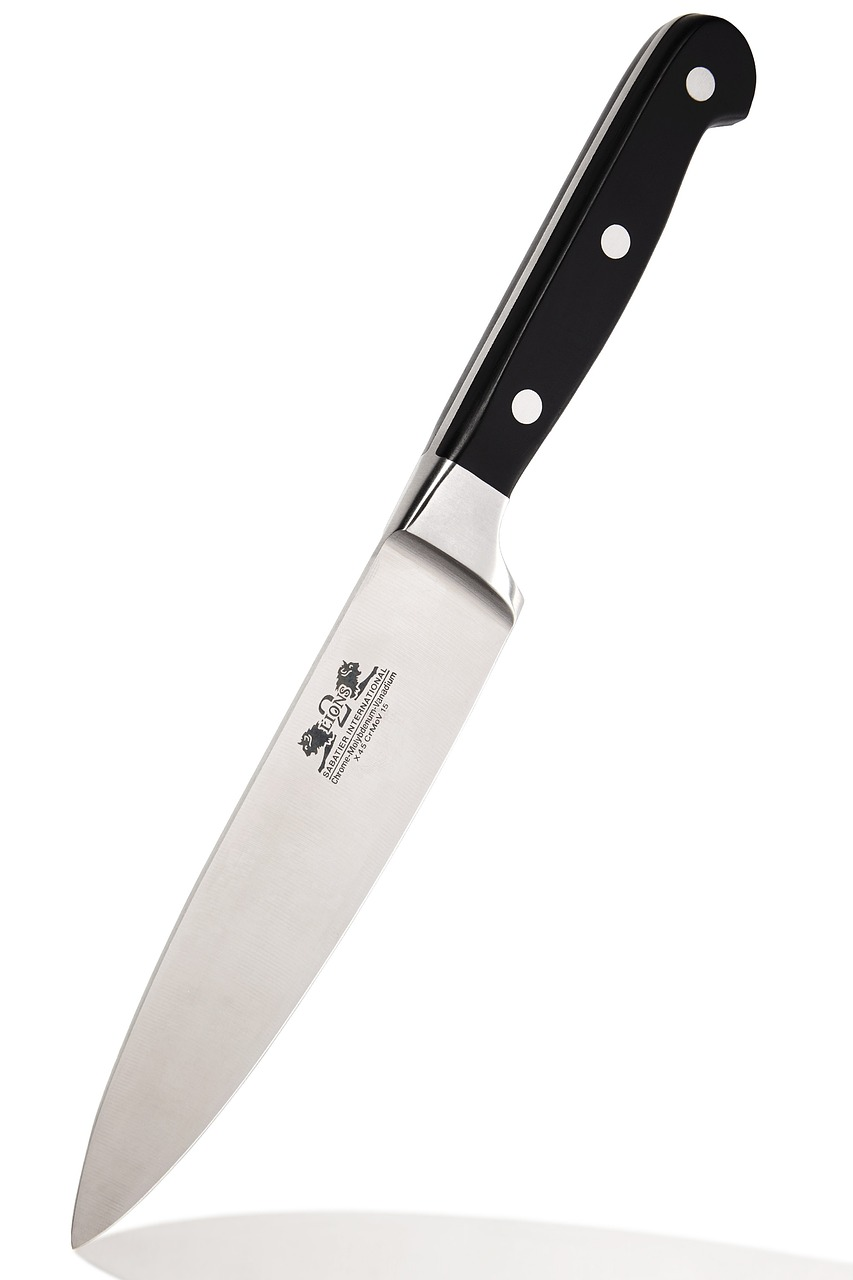knife: (34, 13, 762, 1258)
